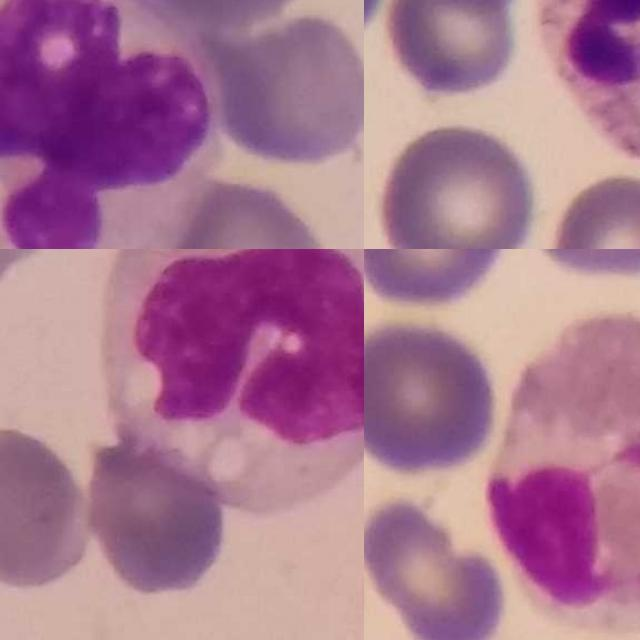Eosinophil: (490, 313, 640, 632)
Monocyte: (105, 249, 364, 509), (0, 0, 225, 249)
Neutrophil: (542, 0, 640, 160)
